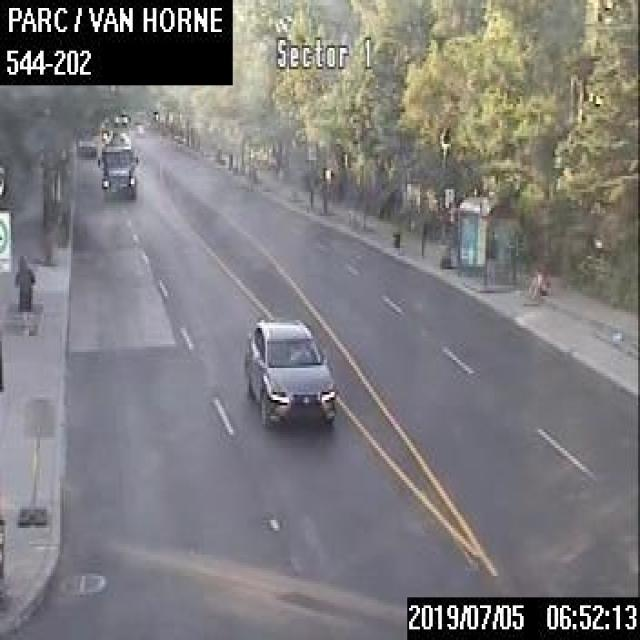pedestrian: (13, 251, 34, 331), (524, 264, 551, 298)
vehicle: (242, 315, 336, 424), (96, 127, 138, 199), (76, 134, 95, 154)
